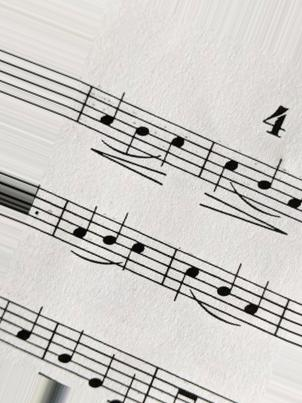A: (67, 201, 101, 258), (10, 301, 41, 360), (241, 277, 270, 337), (95, 91, 125, 147)
B: (95, 212, 127, 271), (253, 158, 286, 215), (123, 105, 155, 163)
E: (87, 337, 118, 394)
G: (56, 327, 84, 377)
HC: (211, 135, 240, 198), (170, 247, 200, 306), (157, 116, 186, 176), (121, 226, 148, 282)
